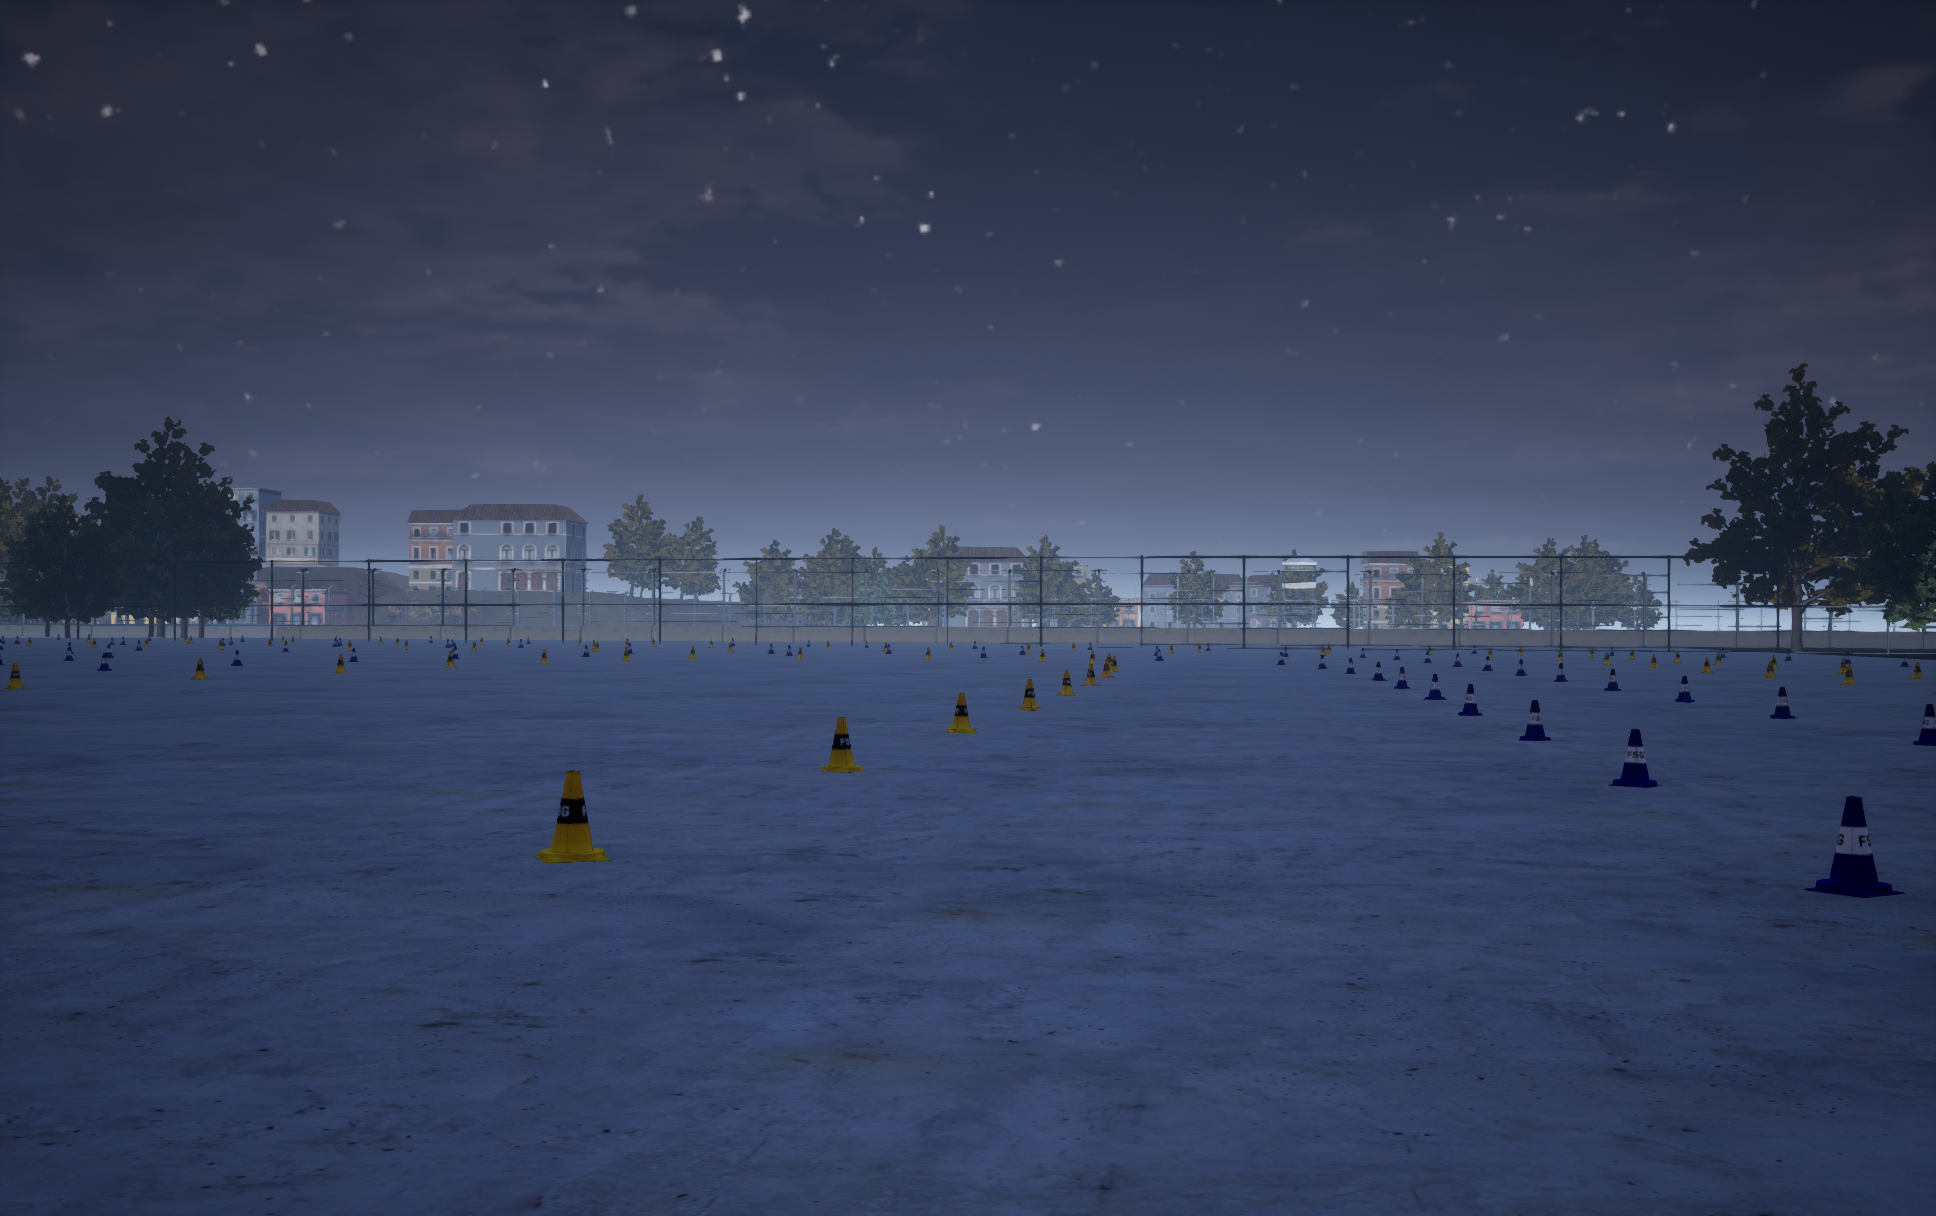blue: (532, 771, 611, 862), (815, 717, 867, 772), (946, 693, 976, 733), (1018, 679, 1039, 710), (3, 663, 24, 688), (1056, 670, 1074, 695), (1080, 664, 1101, 685), (191, 658, 207, 679), (1839, 665, 1856, 684), (1100, 658, 1114, 677)
yellow: (1803, 796, 1905, 897), (1608, 728, 1661, 787), (1519, 700, 1549, 740), (1771, 686, 1797, 719), (1914, 705, 1935, 745), (1458, 684, 1482, 714), (1423, 674, 1446, 699), (1675, 677, 1694, 702), (1604, 670, 1619, 691), (1394, 667, 1409, 688), (1371, 663, 1387, 679), (1554, 663, 1568, 681)
